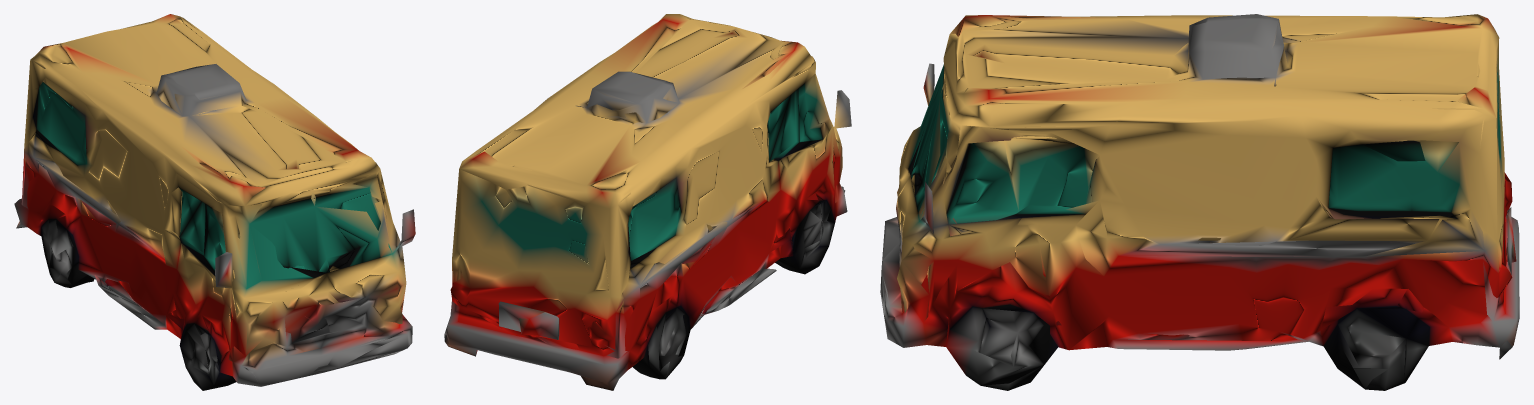
File: gen3d-food-truck-lod0.glb
3 views of the same model, side by side, from view 1: azimuth 30°, elevation 25°; view 2: azimuth 150°, elevation 25°; view 3: azimuth 270°, elevation 25° (orthographic). The views are drawn at different scales.
Parts seen in each view (by area): view 1: part_0; view 2: part_0; view 3: part_0.
Boxes of the visible parts, x1,y1,x2,y2 form: part_0: (14,14,415,390); part_0: (444,14,851,390); part_0: (880,14,1519,390).
Bounding box in the file's own units: 0.9207 × 0.9959 × 1.92.
